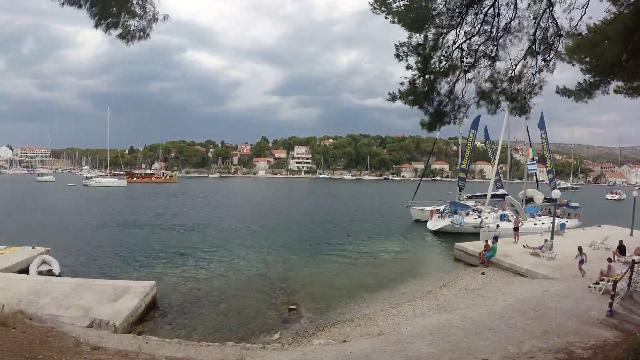Freighter: (118, 166, 182, 184)
Sailboat: (80, 168, 130, 190), (32, 165, 58, 185)
